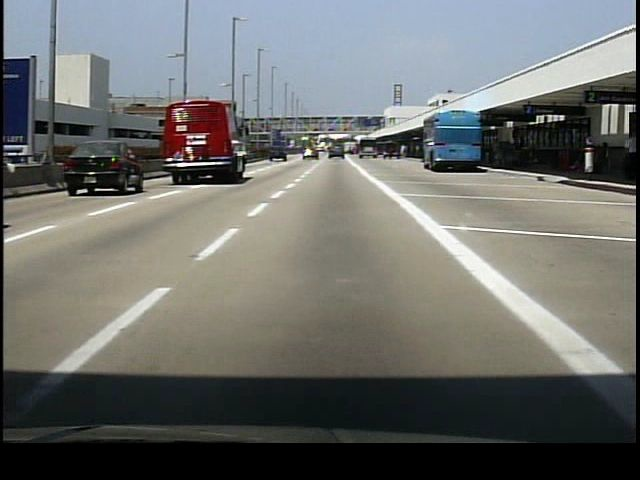person: (623, 133, 640, 178)
